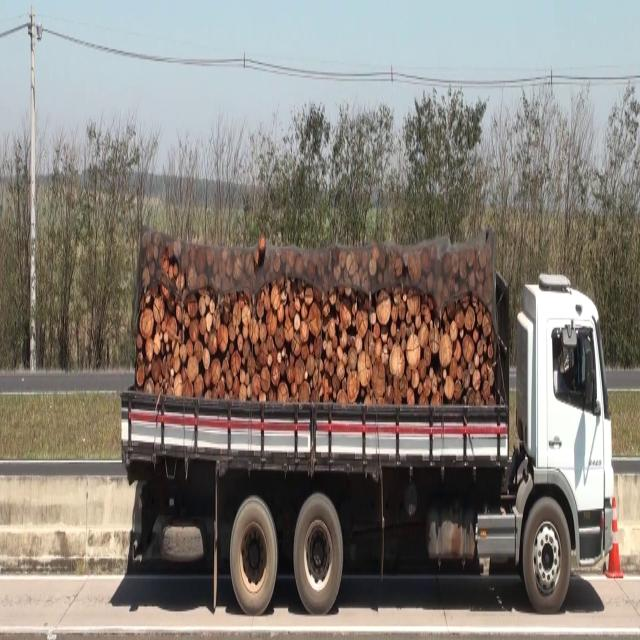-axle: (521, 495, 572, 615), (296, 492, 344, 614), (231, 494, 278, 618)
